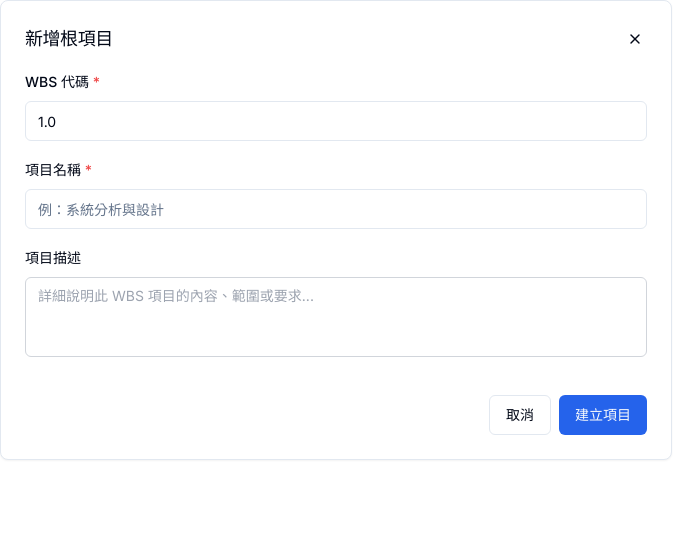
WBSItemForm Component › Create Mode › should validate required fields on create
# Clear the default code and try to submit
Clear the field showing "1.0" at (336, 121), box [25,101,647,141]
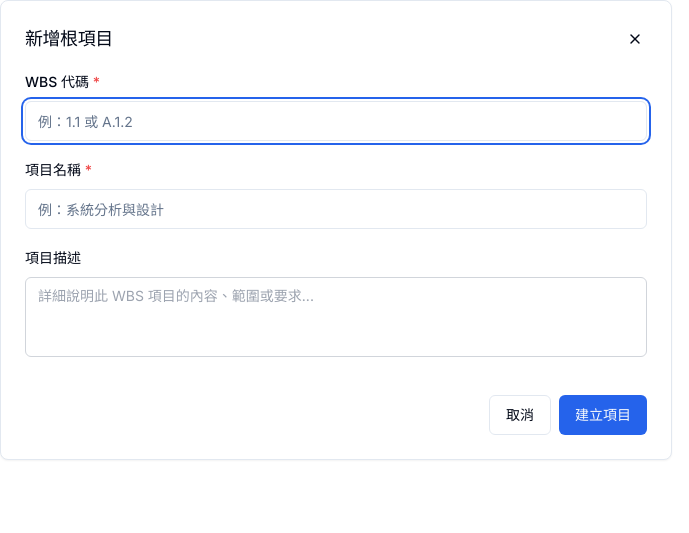
Click the button "建立項目" at (603, 415), box [559,395,647,435]
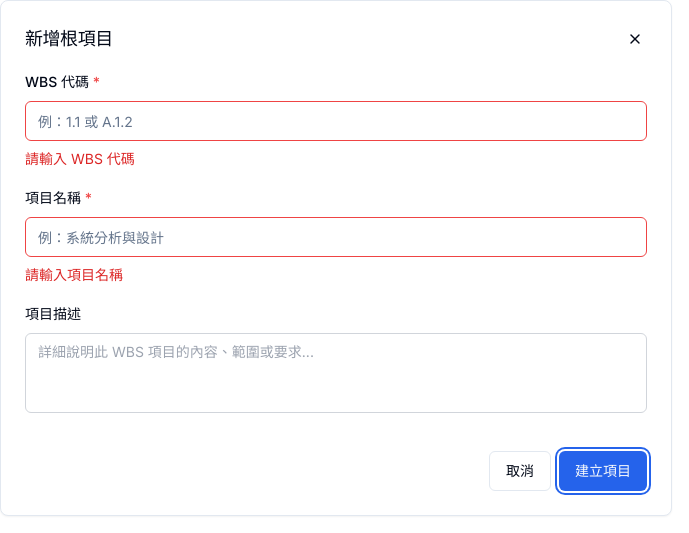
Now the text "請輸入 WBS 代碼" is shown, box [25,150,135,167]
Now the text "請輸入項目名稱" is shown, box [25,266,123,283]
